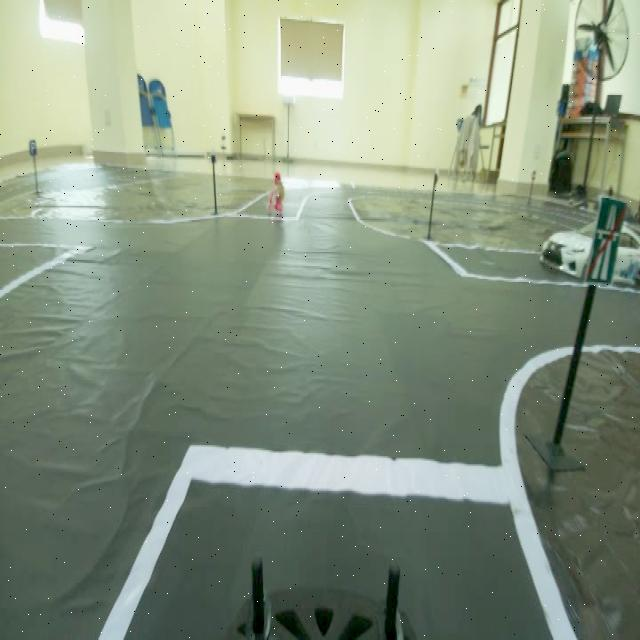highway_exit: (578, 192, 624, 293)
